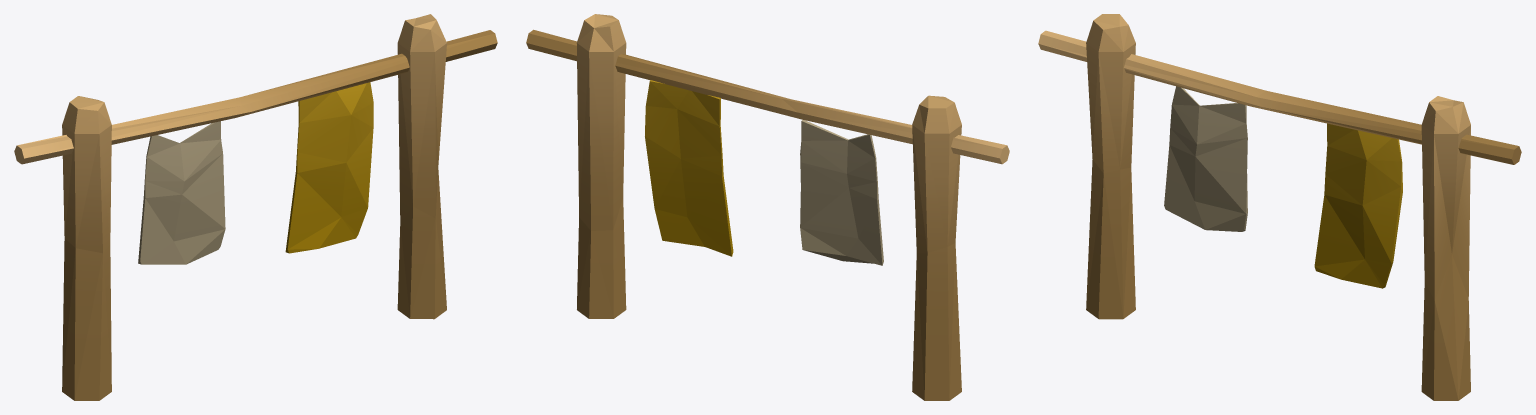
The model's file is HangingCloth.fbx.
The picture shows the model from 3 angles, left to right: view 1: azimuth 30°, elevation 25°; view 2: azimuth 150°, elevation 25°; view 3: azimuth 330°, elevation 25°; orthographic projection.
Visible parts, largest first — view 1: HangingRod.001, Cloth_Yellow.001, Cloth_Grey.001; view 2: HangingRod.001, Cloth_Yellow.001, Cloth_Grey.001; view 3: HangingRod.001, Cloth_Yellow.001, Cloth_Grey.001.
Boxes of the visible parts, box(x1,y1,x2,y2) form: HangingRod.001: box(14, 14, 497, 400); Cloth_Yellow.001: box(285, 82, 373, 253); Cloth_Grey.001: box(138, 121, 225, 264); HangingRod.001: box(526, 14, 1009, 400); Cloth_Yellow.001: box(645, 80, 733, 256); Cloth_Grey.001: box(800, 120, 883, 265); HangingRod.001: box(1038, 14, 1521, 400); Cloth_Yellow.001: box(1314, 123, 1402, 288); Cloth_Grey.001: box(1164, 86, 1247, 231).
Bounding box in the file's own units: 2.05 × 1.2 × 0.1867.
Materials: 1 (1 with a texture image).
